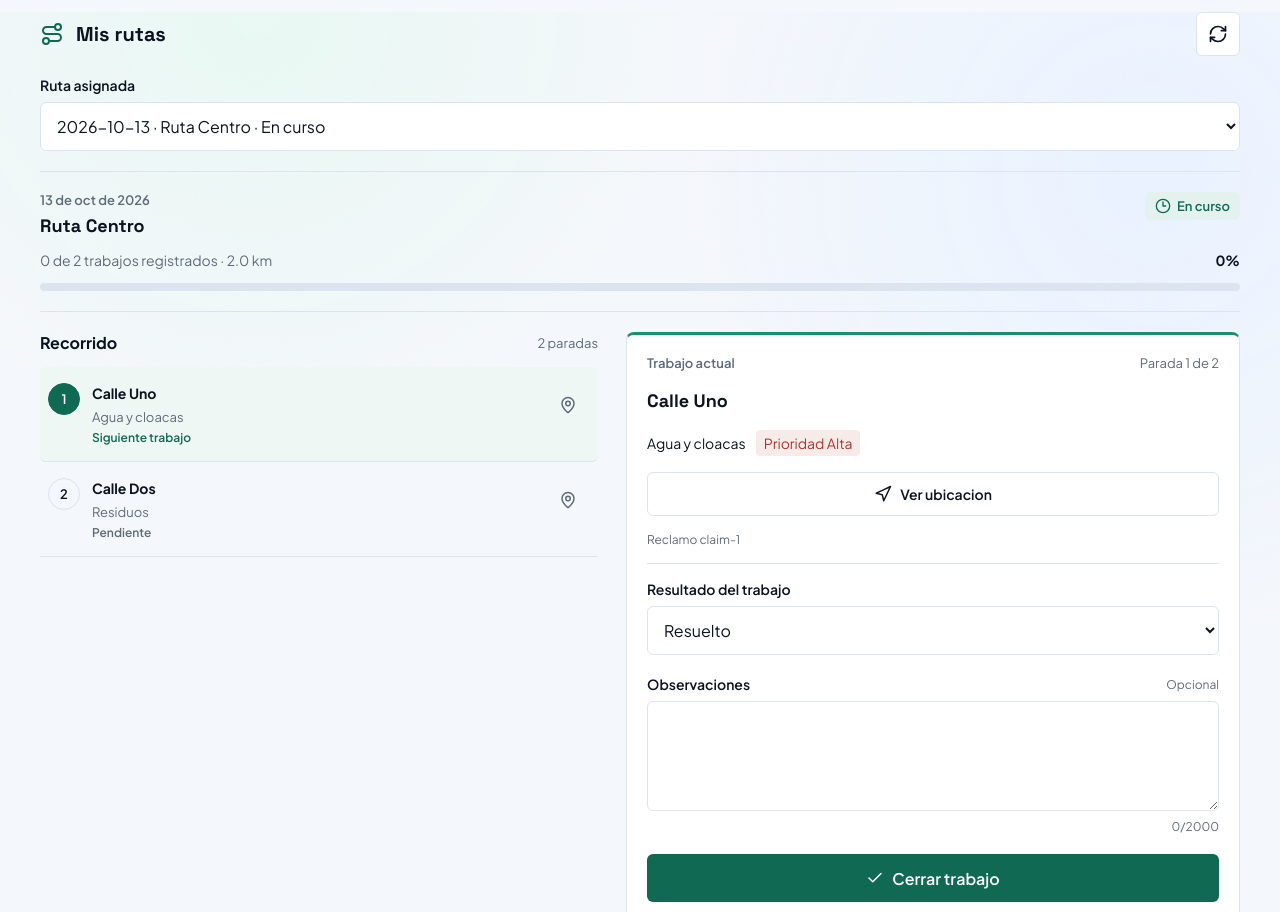
Scenario: AgentRoutesPanel › keeps the current stop when registration fails
Step 1. Click the button "Cerrar trabajo" → click(933, 878), box [647,854,1219,902]
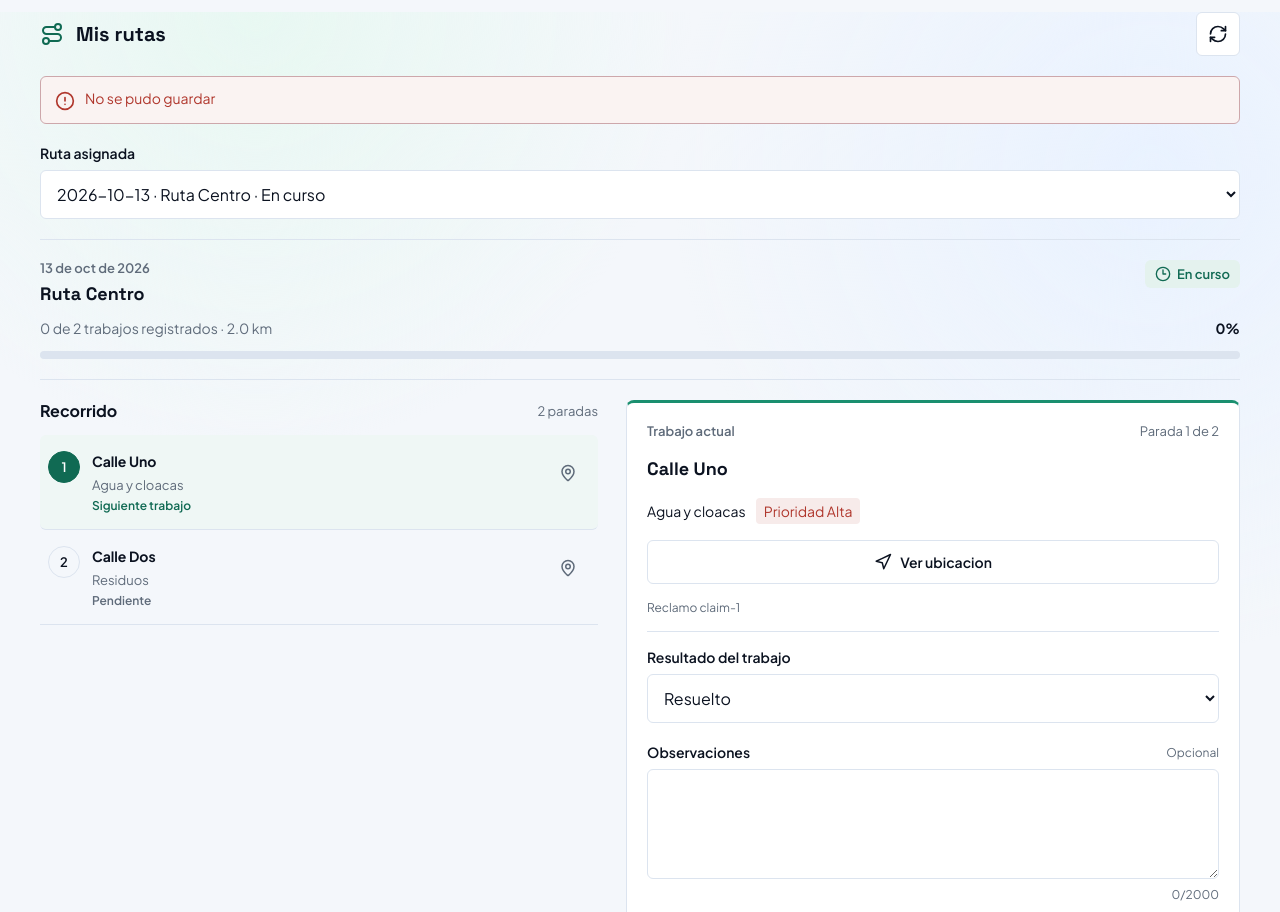
Expected: the message reads "No se pudo guardar", [85,89,215,107]
